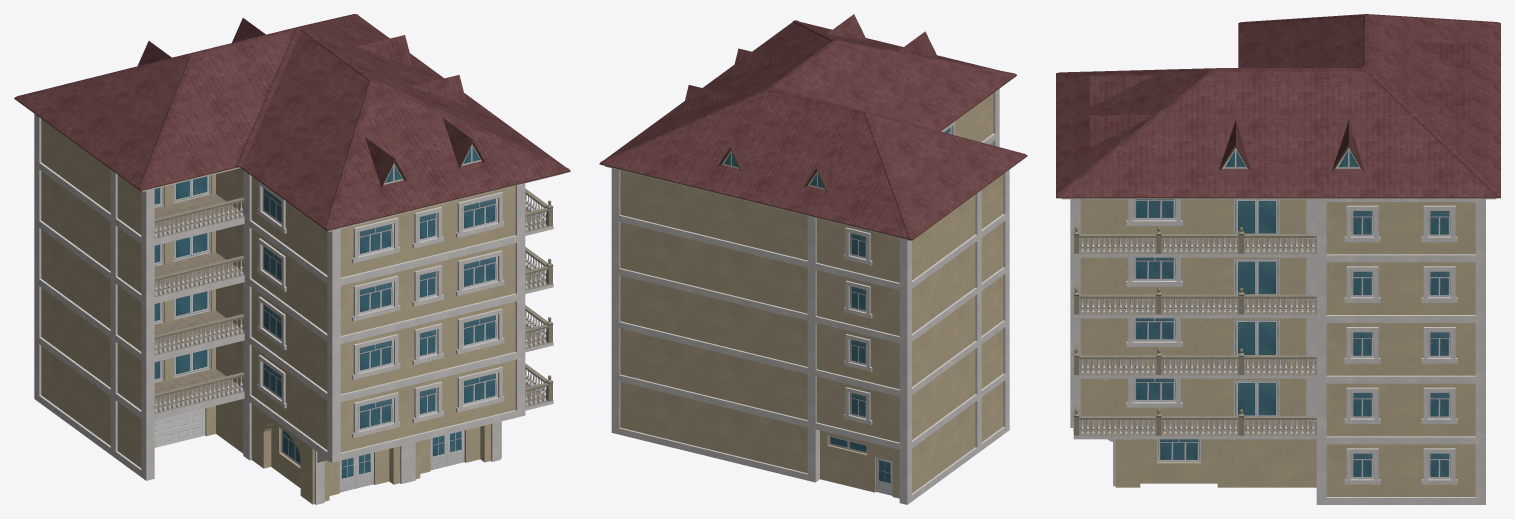
File: corporate_office.glb
3 renders of one model, left to right at view 1: azimuth 30°, elevation 25°; view 2: azimuth 150°, elevation 25°; view 3: azimuth 270°, elevation 25°, orthographic. The views are drawn at different scales.
Parts seen in each view (by area): view 1: polySurface651_Main_Body_0, polySurface651_Roof_0; view 2: polySurface651_Main_Body_0, polySurface651_Roof_0; view 3: polySurface651_Main_Body_0, polySurface651_Roof_0.
Boxes of the visible parts, left/top/right/bottom form: polySurface651_Main_Body_0: left=34, top=114, right=553, bottom=504; polySurface651_Roof_0: left=14, top=14, right=570, bottom=231; polySurface651_Main_Body_0: left=611, top=89, right=1009, bottom=504; polySurface651_Roof_0: left=599, top=14, right=1027, bottom=240; polySurface651_Main_Body_0: left=1070, top=148, right=1485, bottom=504; polySurface651_Roof_0: left=1056, top=14, right=1500, bottom=199.
Bounding box in the file's own units: 0.3107 × 0.3144 × 0.3358.
Materials: 2 (2 with a texture image).
